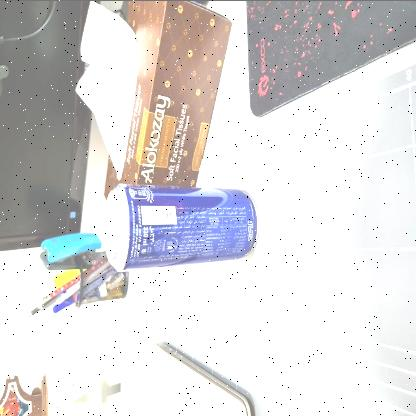Can: (93, 182, 260, 276)
